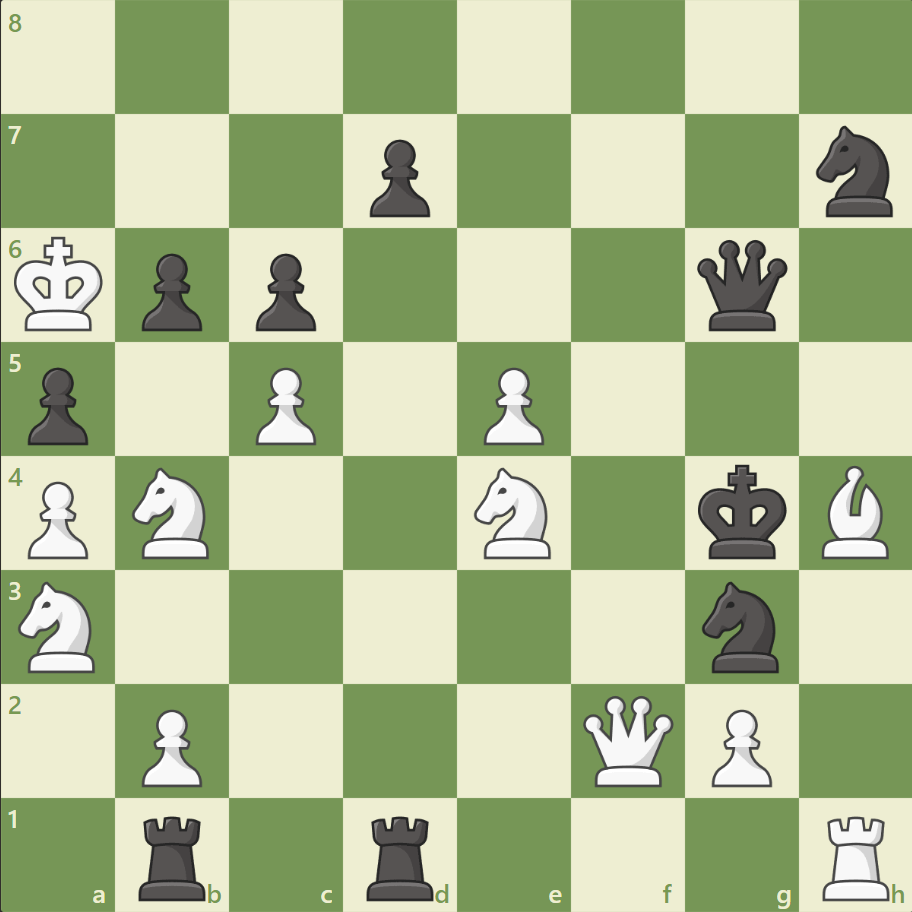B: (812, 460, 896, 563)
K: (11, 231, 111, 339)
N: (124, 461, 222, 564), (465, 461, 562, 564), (11, 575, 108, 677)
P: (247, 359, 322, 450), (474, 359, 549, 450), (20, 473, 95, 564), (133, 700, 208, 791), (701, 700, 776, 791)
Q: (578, 690, 677, 789)
R: (814, 806, 897, 904)
k: (692, 458, 792, 566)
n: (806, 121, 903, 223), (692, 575, 789, 677)
p: (133, 246, 208, 337), (247, 246, 322, 337), (20, 359, 95, 450), (361, 132, 435, 223)
q: (691, 236, 790, 335)
r: (133, 806, 215, 904), (360, 806, 442, 904)
